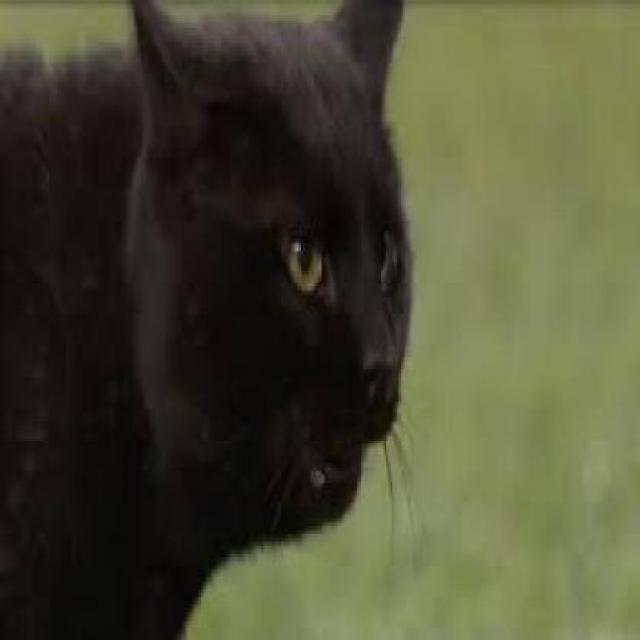animals: (124, 4, 407, 530)
